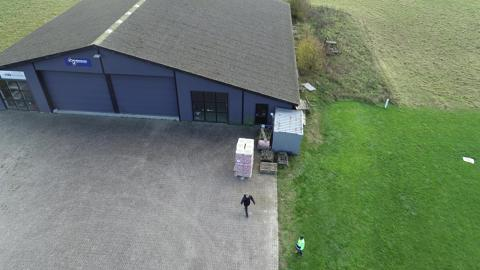RockwoolPallet: (233, 137, 255, 175)
